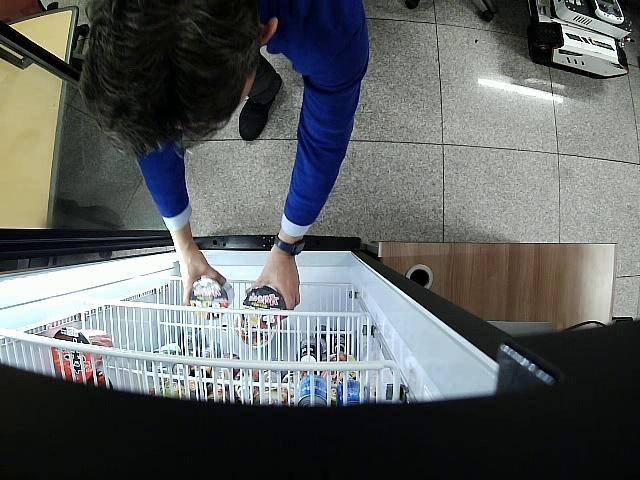08_buldak_S: (243, 285, 285, 328), (190, 278, 234, 318)
